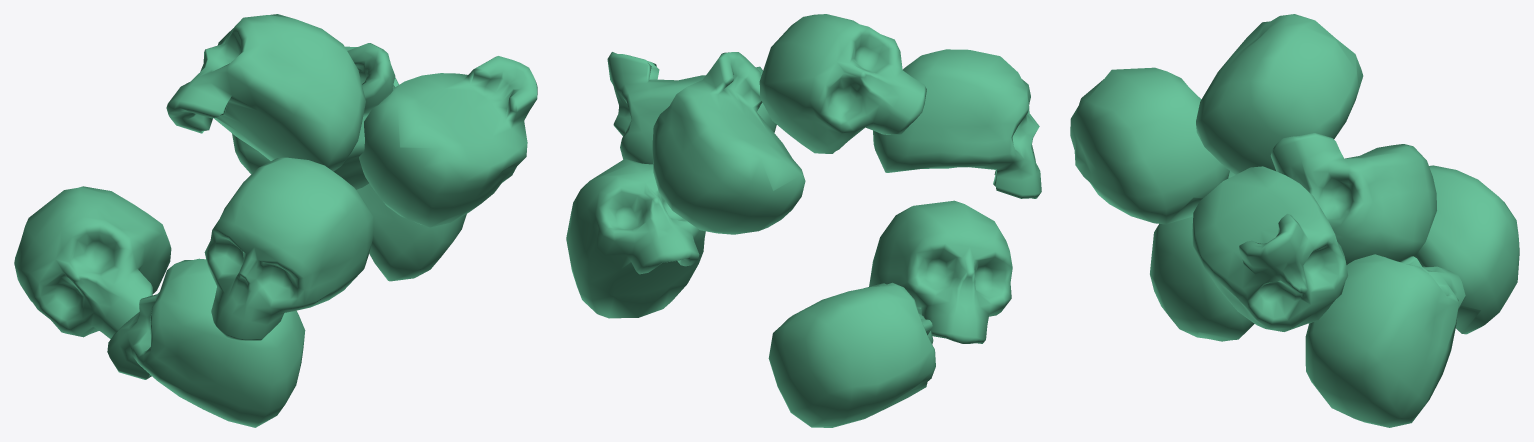
Rendered from Bones_Pile_01_Lod2.fbx.
The picture shows the model from 3 angles, left to right: view 1: azimuth 30°, elevation 25°; view 2: azimuth 150°, elevation 25°; view 3: azimuth 270°, elevation 25°; orthographic projection. The views are drawn at different scales.
Visible parts, largest first — view 1: Bones_Pile_01_Lod2; view 2: Bones_Pile_01_Lod2; view 3: Bones_Pile_01_Lod2.
Part boxes in pixels (x1,y1,x2,y2): Bones_Pile_01_Lod2: (14,14,537,427); Bones_Pile_01_Lod2: (566,14,1041,427); Bones_Pile_01_Lod2: (1070,14,1519,427).
Size of the model in its own units: 49.12 by 39.07 by 46.45.
